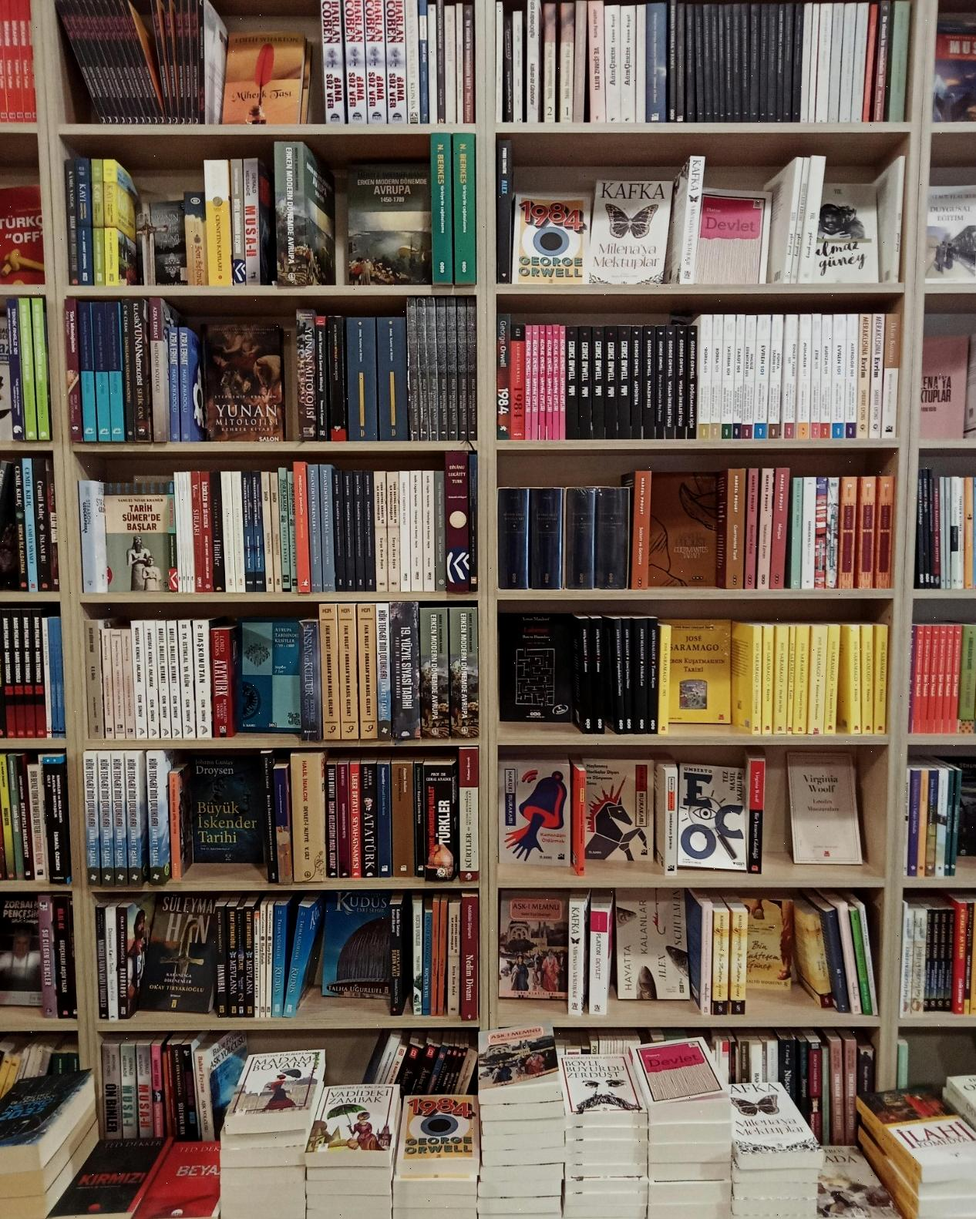book: (682, 159, 750, 285), (101, 480, 174, 596), (221, 31, 307, 126), (648, 474, 718, 589), (93, 894, 153, 1020), (576, 760, 643, 872), (761, 158, 819, 284), (656, 618, 721, 719), (193, 1031, 246, 1143), (284, 894, 324, 1017), (811, 892, 849, 1016), (422, 758, 459, 881), (290, 756, 326, 882), (273, 141, 303, 285), (0, 0, 35, 121), (872, 157, 905, 285), (845, 891, 877, 1018), (389, 603, 419, 735), (419, 605, 448, 732), (203, 159, 231, 287), (444, 459, 471, 591), (447, 607, 475, 734), (947, 894, 976, 1016), (452, 131, 475, 283), (41, 754, 69, 878), (112, 160, 140, 282), (429, 132, 452, 280), (497, 487, 530, 590), (148, 200, 187, 286), (146, 751, 172, 878), (564, 487, 596, 590), (729, 622, 758, 734), (51, 898, 76, 1021), (945, 759, 976, 858), (684, 889, 708, 1016), (295, 309, 318, 441), (202, 0, 227, 120), (29, 298, 50, 440), (363, 0, 387, 124), (150, 0, 174, 120), (603, 614, 627, 733), (320, 0, 343, 123), (343, 0, 366, 123), (177, 1034, 203, 1142), (629, 472, 653, 588), (384, 0, 406, 125), (336, 604, 357, 734), (356, 605, 377, 734), (568, 891, 590, 1014), (654, 761, 677, 877), (20, 459, 40, 591), (888, 1, 910, 121), (726, 897, 748, 1016), (37, 896, 58, 1019), (6, 298, 24, 440), (496, 139, 514, 281), (587, 613, 608, 734), (644, 0, 665, 119), (745, 749, 765, 873), (174, 0, 194, 124), (271, 760, 291, 883), (362, 1029, 404, 1087), (787, 626, 809, 736), (242, 159, 261, 286), (300, 619, 320, 739), (871, 1, 891, 121), (838, 625, 860, 734), (323, 605, 341, 738), (823, 1032, 844, 1146), (709, 899, 729, 1017), (182, 191, 206, 288), (100, 1042, 123, 1143), (806, 625, 827, 735), (124, 752, 142, 880), (83, 751, 101, 879), (391, 766, 411, 880), (73, 158, 91, 284), (631, 615, 650, 734), (837, 476, 857, 588), (804, 1034, 824, 1145), (822, 625, 842, 734), (460, 751, 477, 879), (79, 482, 98, 595), (569, 759, 587, 876), (771, 625, 790, 735), (839, 1032, 857, 1148), (85, 620, 102, 742), (587, 0, 604, 122), (898, 898, 915, 1020), (957, 623, 976, 730), (261, 752, 277, 878), (64, 161, 80, 287), (462, 899, 478, 1024), (870, 623, 888, 734), (495, 315, 511, 439), (559, 1, 575, 123), (134, 1042, 154, 1139), (541, 0, 557, 121), (620, 1, 636, 122), (132, 620, 148, 740), (855, 1041, 874, 1142), (604, 3, 620, 122), (90, 160, 105, 282), (524, 0, 539, 120), (214, 906, 230, 1016), (646, 617, 661, 734), (168, 773, 184, 882), (145, 622, 160, 738), (405, 0, 419, 124), (120, 1044, 138, 1140), (388, 904, 403, 1017), (446, 895, 460, 1016), (574, 0, 588, 121), (657, 623, 672, 735), (634, 2, 648, 121), (416, 0, 429, 123), (110, 630, 124, 737), (963, 327, 976, 441), (511, 10, 524, 122), (444, 3, 456, 123), (502, 7, 514, 124), (427, 2, 438, 124), (463, 3, 474, 123), (414, 905, 423, 1015), (276, 908, 285, 1017), (496, 3, 504, 125), (433, 902, 438, 1015)
